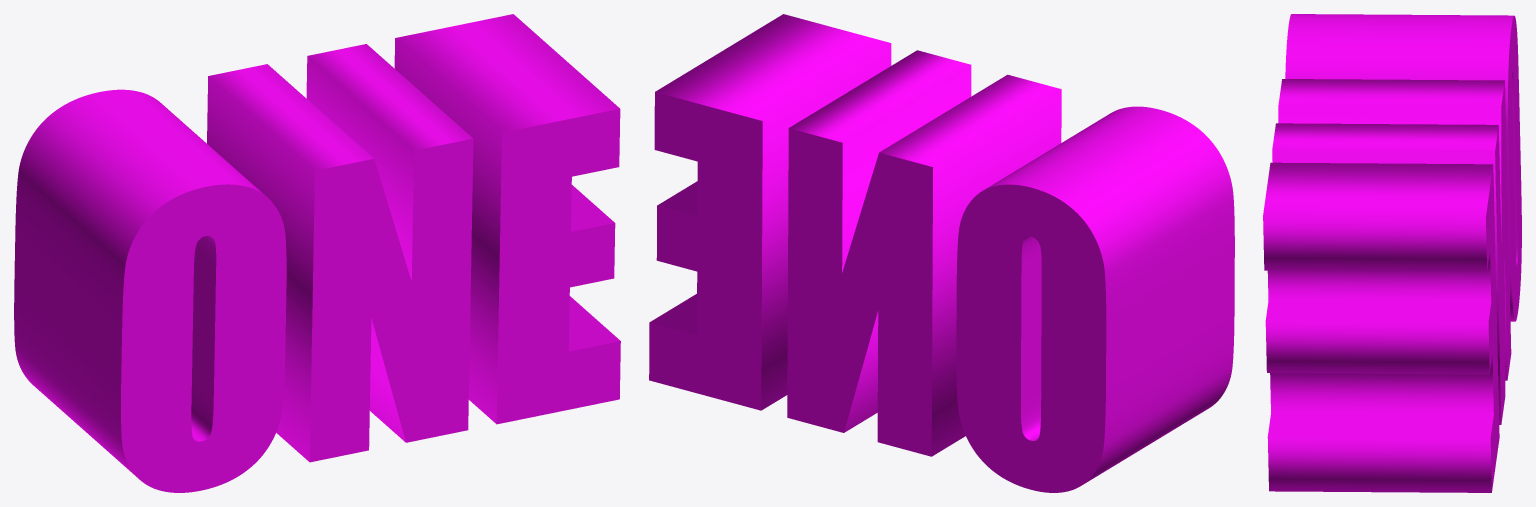
File: 2_one-FINAL.glb
3 views of the same model, side by side, from view 1: azimuth 30°, elevation 25°; view 2: azimuth 150°, elevation 25°; view 3: azimuth 270°, elevation 25° (orthographic). The views are drawn at different scales.
Parts seen in each view (by area): view 1: 1; view 2: 1; view 3: 1.
Boxes of the visible parts, x1=… form: 1: x1=14, y1=14, x2=620, y2=492; 1: x1=649, y1=14, x2=1234, y2=492; 1: x1=1263, y1=14, x2=1521, y2=492.
Bounding box in the file's own units: 0.8142 × 0.4868 × 0.3939.
